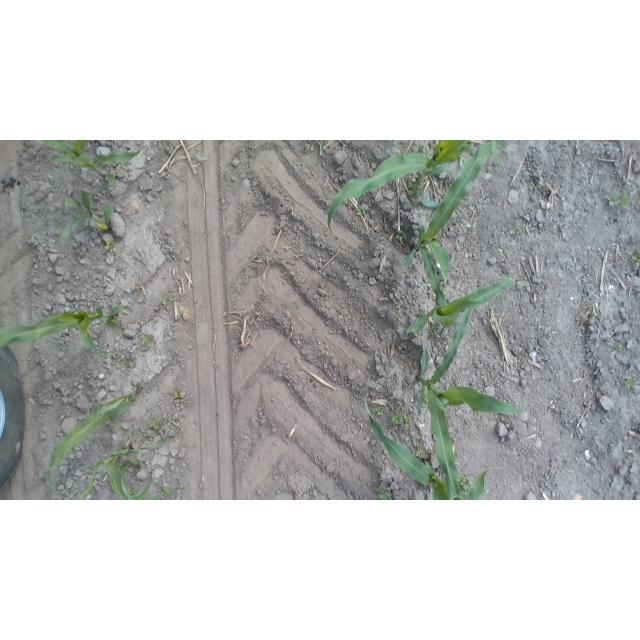Maize: (417, 306, 528, 499), (403, 140, 509, 306), (362, 374, 500, 500), (325, 141, 511, 230), (45, 379, 143, 496), (81, 421, 183, 500), (405, 276, 517, 333), (0, 304, 122, 355), (41, 140, 146, 184), (60, 189, 112, 243)
Weeds: (605, 189, 631, 209), (391, 408, 413, 431), (458, 473, 473, 500), (140, 333, 158, 348), (427, 324, 441, 342), (374, 485, 390, 500), (157, 486, 171, 500), (416, 442, 429, 457), (407, 182, 419, 198), (105, 314, 120, 326), (105, 238, 116, 254), (159, 295, 176, 305), (118, 461, 131, 474), (149, 418, 163, 430), (396, 230, 407, 245), (631, 253, 640, 267), (127, 485, 138, 495), (625, 378, 635, 389), (318, 140, 324, 156), (172, 390, 182, 399), (356, 207, 366, 216), (376, 408, 385, 417), (428, 245, 435, 256), (619, 341, 626, 351), (111, 352, 119, 360), (125, 357, 131, 367), (516, 227, 523, 235), (93, 489, 96, 493)
